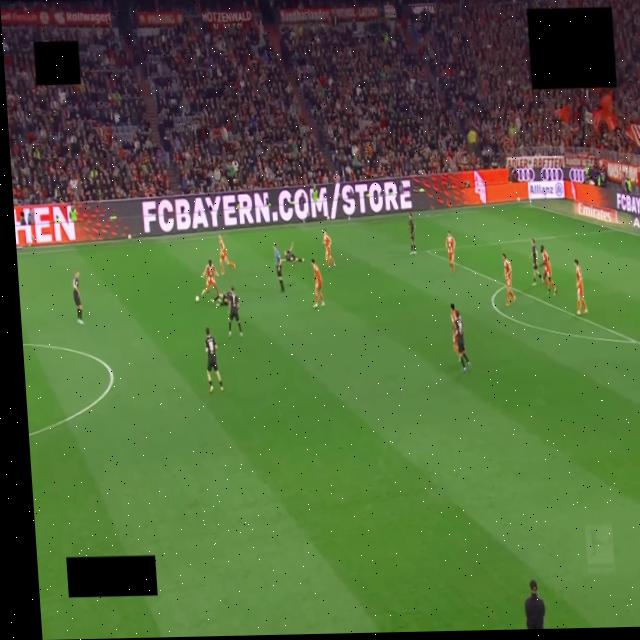ball: (195, 296, 199, 302)
player: (205, 328, 223, 393), (455, 310, 470, 372), (225, 286, 242, 338), (540, 245, 556, 295), (574, 260, 587, 315), (503, 253, 515, 306), (219, 235, 235, 274), (312, 258, 324, 308), (73, 271, 84, 325), (202, 260, 218, 295), (323, 230, 335, 270), (450, 303, 459, 356), (531, 239, 541, 285), (285, 242, 304, 263), (446, 230, 455, 273), (408, 213, 416, 254), (212, 293, 228, 307)
referee: (274, 244, 284, 292)
